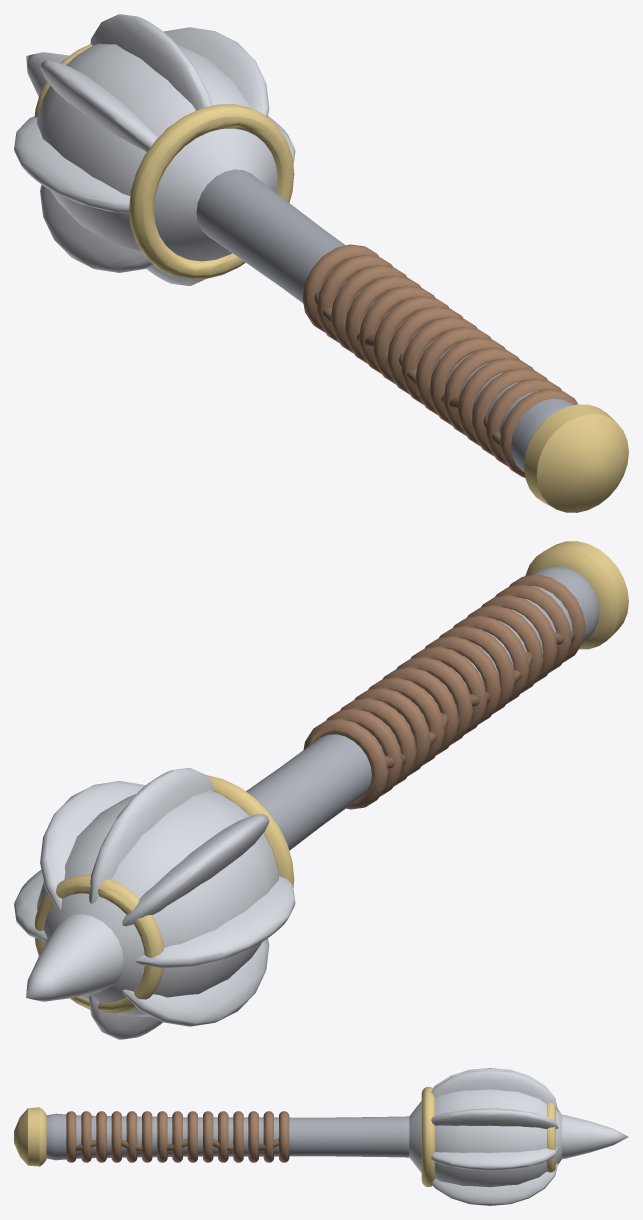
Rendered from th31_streitkolben.glb.
The picture shows the model from 3 angles, top to bottom: view 1: azimuth 30°, elevation 25°; view 2: azimuth 150°, elevation 25°; view 3: azimuth 270°, elevation 25°; orthographic projection. The views are drawn at different scales.
Visible parts, largest first — view 1: Dreh.001, Dreh, Torus, Dreh.003, Sphere, Sphere.006, Sphere.007, Sphere.005, Sphere.001, Torus.014, Torus.011, Torus.013 (+13 smaller); view 2: Dreh.001, Dreh, Dreh.002, Sphere, Sphere.006, Sphere.007, Sphere.005, Dreh.003, Sphere.001, Torus.001, Torus.016, Torus (+16 smaller); view 3: Dreh, Dreh.001, Sphere, Sphere.003, Sphere.002, Sphere.001, Dreh.002, Dreh.003, Torus, Torus.006, Torus.016, Torus.004 (+14 smaller).
Part boxes in pixels (x1=…): Dreh.001: x1=36, y1=43, x2=277, y2=261; Dreh: x1=196, y1=169, x2=574, y2=472; Torus: x1=129, y1=104, x2=294, y2=279; Dreh.003: x1=524, y1=404, x2=628, y2=512; Sphere: x1=90, y1=14, x2=212, y2=110; Sphere.006: x1=14, y1=116, x2=130, y2=213; Sphere.007: x1=40, y1=60, x2=157, y2=151; Sphere.005: x1=40, y1=184, x2=153, y2=272; Sphere.001: x1=163, y1=27, x2=269, y2=116; Torus.014: x1=330, y1=265, x2=407, y2=353; Torus.011: x1=373, y1=296, x2=449, y2=384; Torus.013: x1=344, y1=275, x2=421, y2=363; Dreh.001: x1=36, y1=790, x2=278, y2=1016; Dreh: x1=246, y1=566, x2=599, y2=850; Dreh.002: x1=26, y1=914, x2=123, y2=1001; Sphere: x1=89, y1=768, x2=213, y2=903; Sphere.006: x1=135, y1=876, x2=295, y2=968; Sphere.007: x1=122, y1=813, x2=269, y2=926; Sphere.005: x1=122, y1=938, x2=269, y2=1026; Dreh.003: x1=525, y1=541, x2=628, y2=649; Sphere.001: x1=40, y1=781, x2=145, y2=909; Torus.001: x1=34, y1=874, x2=164, y2=1013; Torus.016: x1=303, y1=718, x2=388, y2=809; Torus: x1=206, y1=775, x2=294, y2=887; Dreh: x1=46, y1=1113, x2=409, y2=1160; Dreh.001: x1=409, y1=1089, x2=561, y2=1187; Sphere: x1=431, y1=1070, x2=558, y2=1111; Sphere.003: x1=431, y1=1163, x2=558, y2=1205; Sphere.002: x1=431, y1=1147, x2=558, y2=1170; Sphere.001: x1=431, y1=1108, x2=558, y2=1128; Dreh.002: x1=562, y1=1114, x2=628, y2=1159; Dreh.003: x1=14, y1=1107, x2=46, y2=1166; Torus: x1=421, y1=1086, x2=434, y2=1187; Torus.006: x1=126, y1=1111, x2=137, y2=1162; Torus.016: x1=279, y1=1111, x2=289, y2=1162; Torus.004: x1=96, y1=1111, x2=106, y2=1162.
Bounding box in the file's own units: 0.148 × 0.148 × 0.62.
